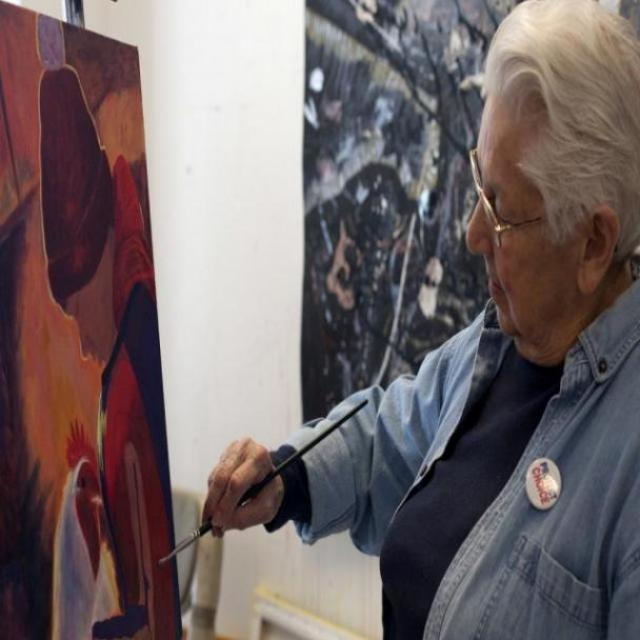Chicken: (55, 422, 106, 640)
